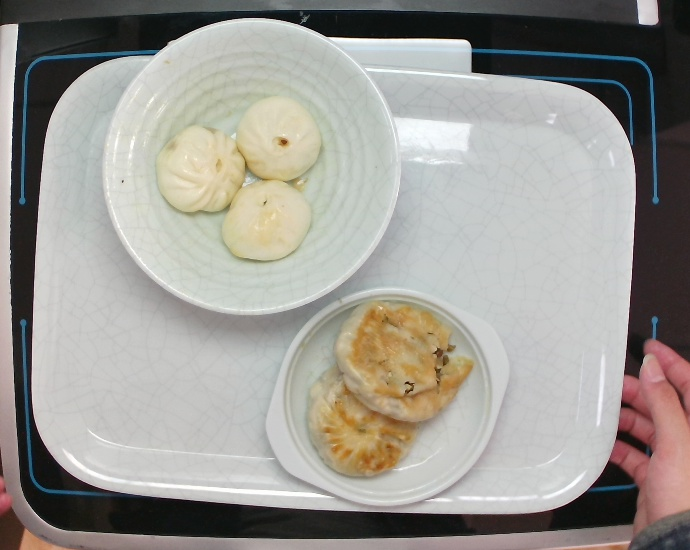JYsf-Shuang_Er_Pan: (262, 284, 512, 509)
JYsf-Xiao_Tang_Wan: (100, 16, 404, 318)
